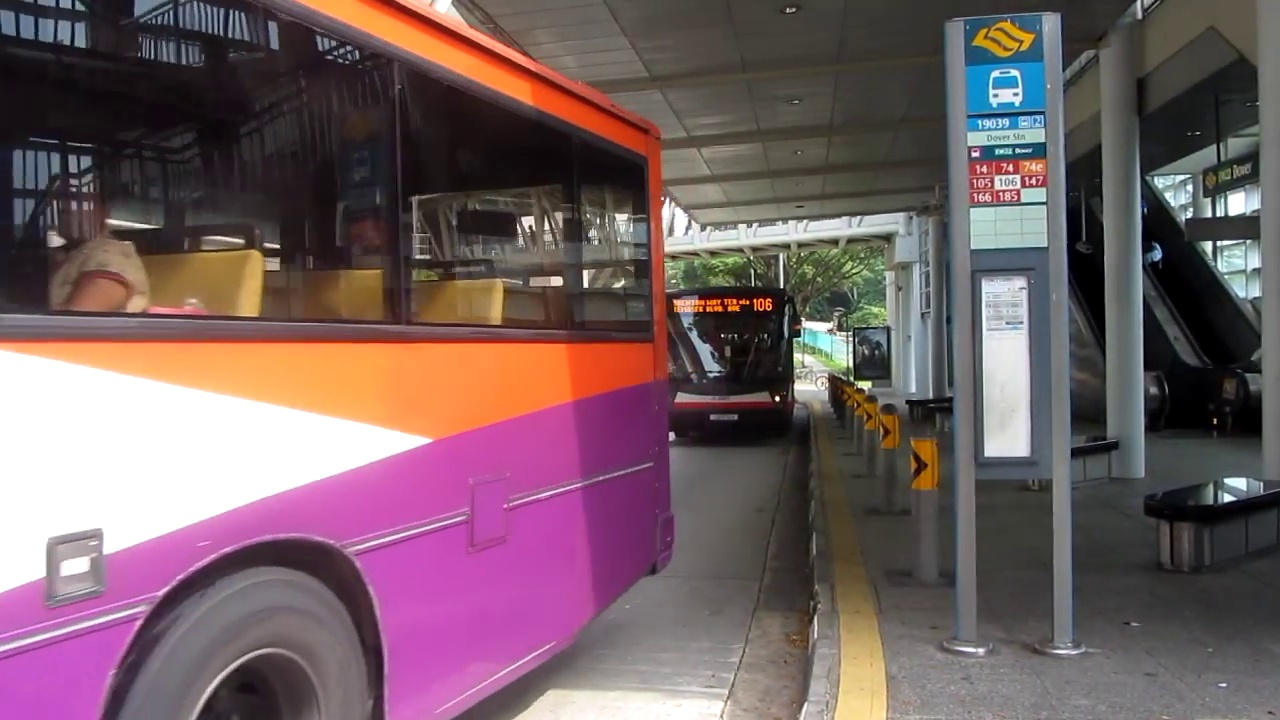bus panel: (670, 296, 775, 314)
